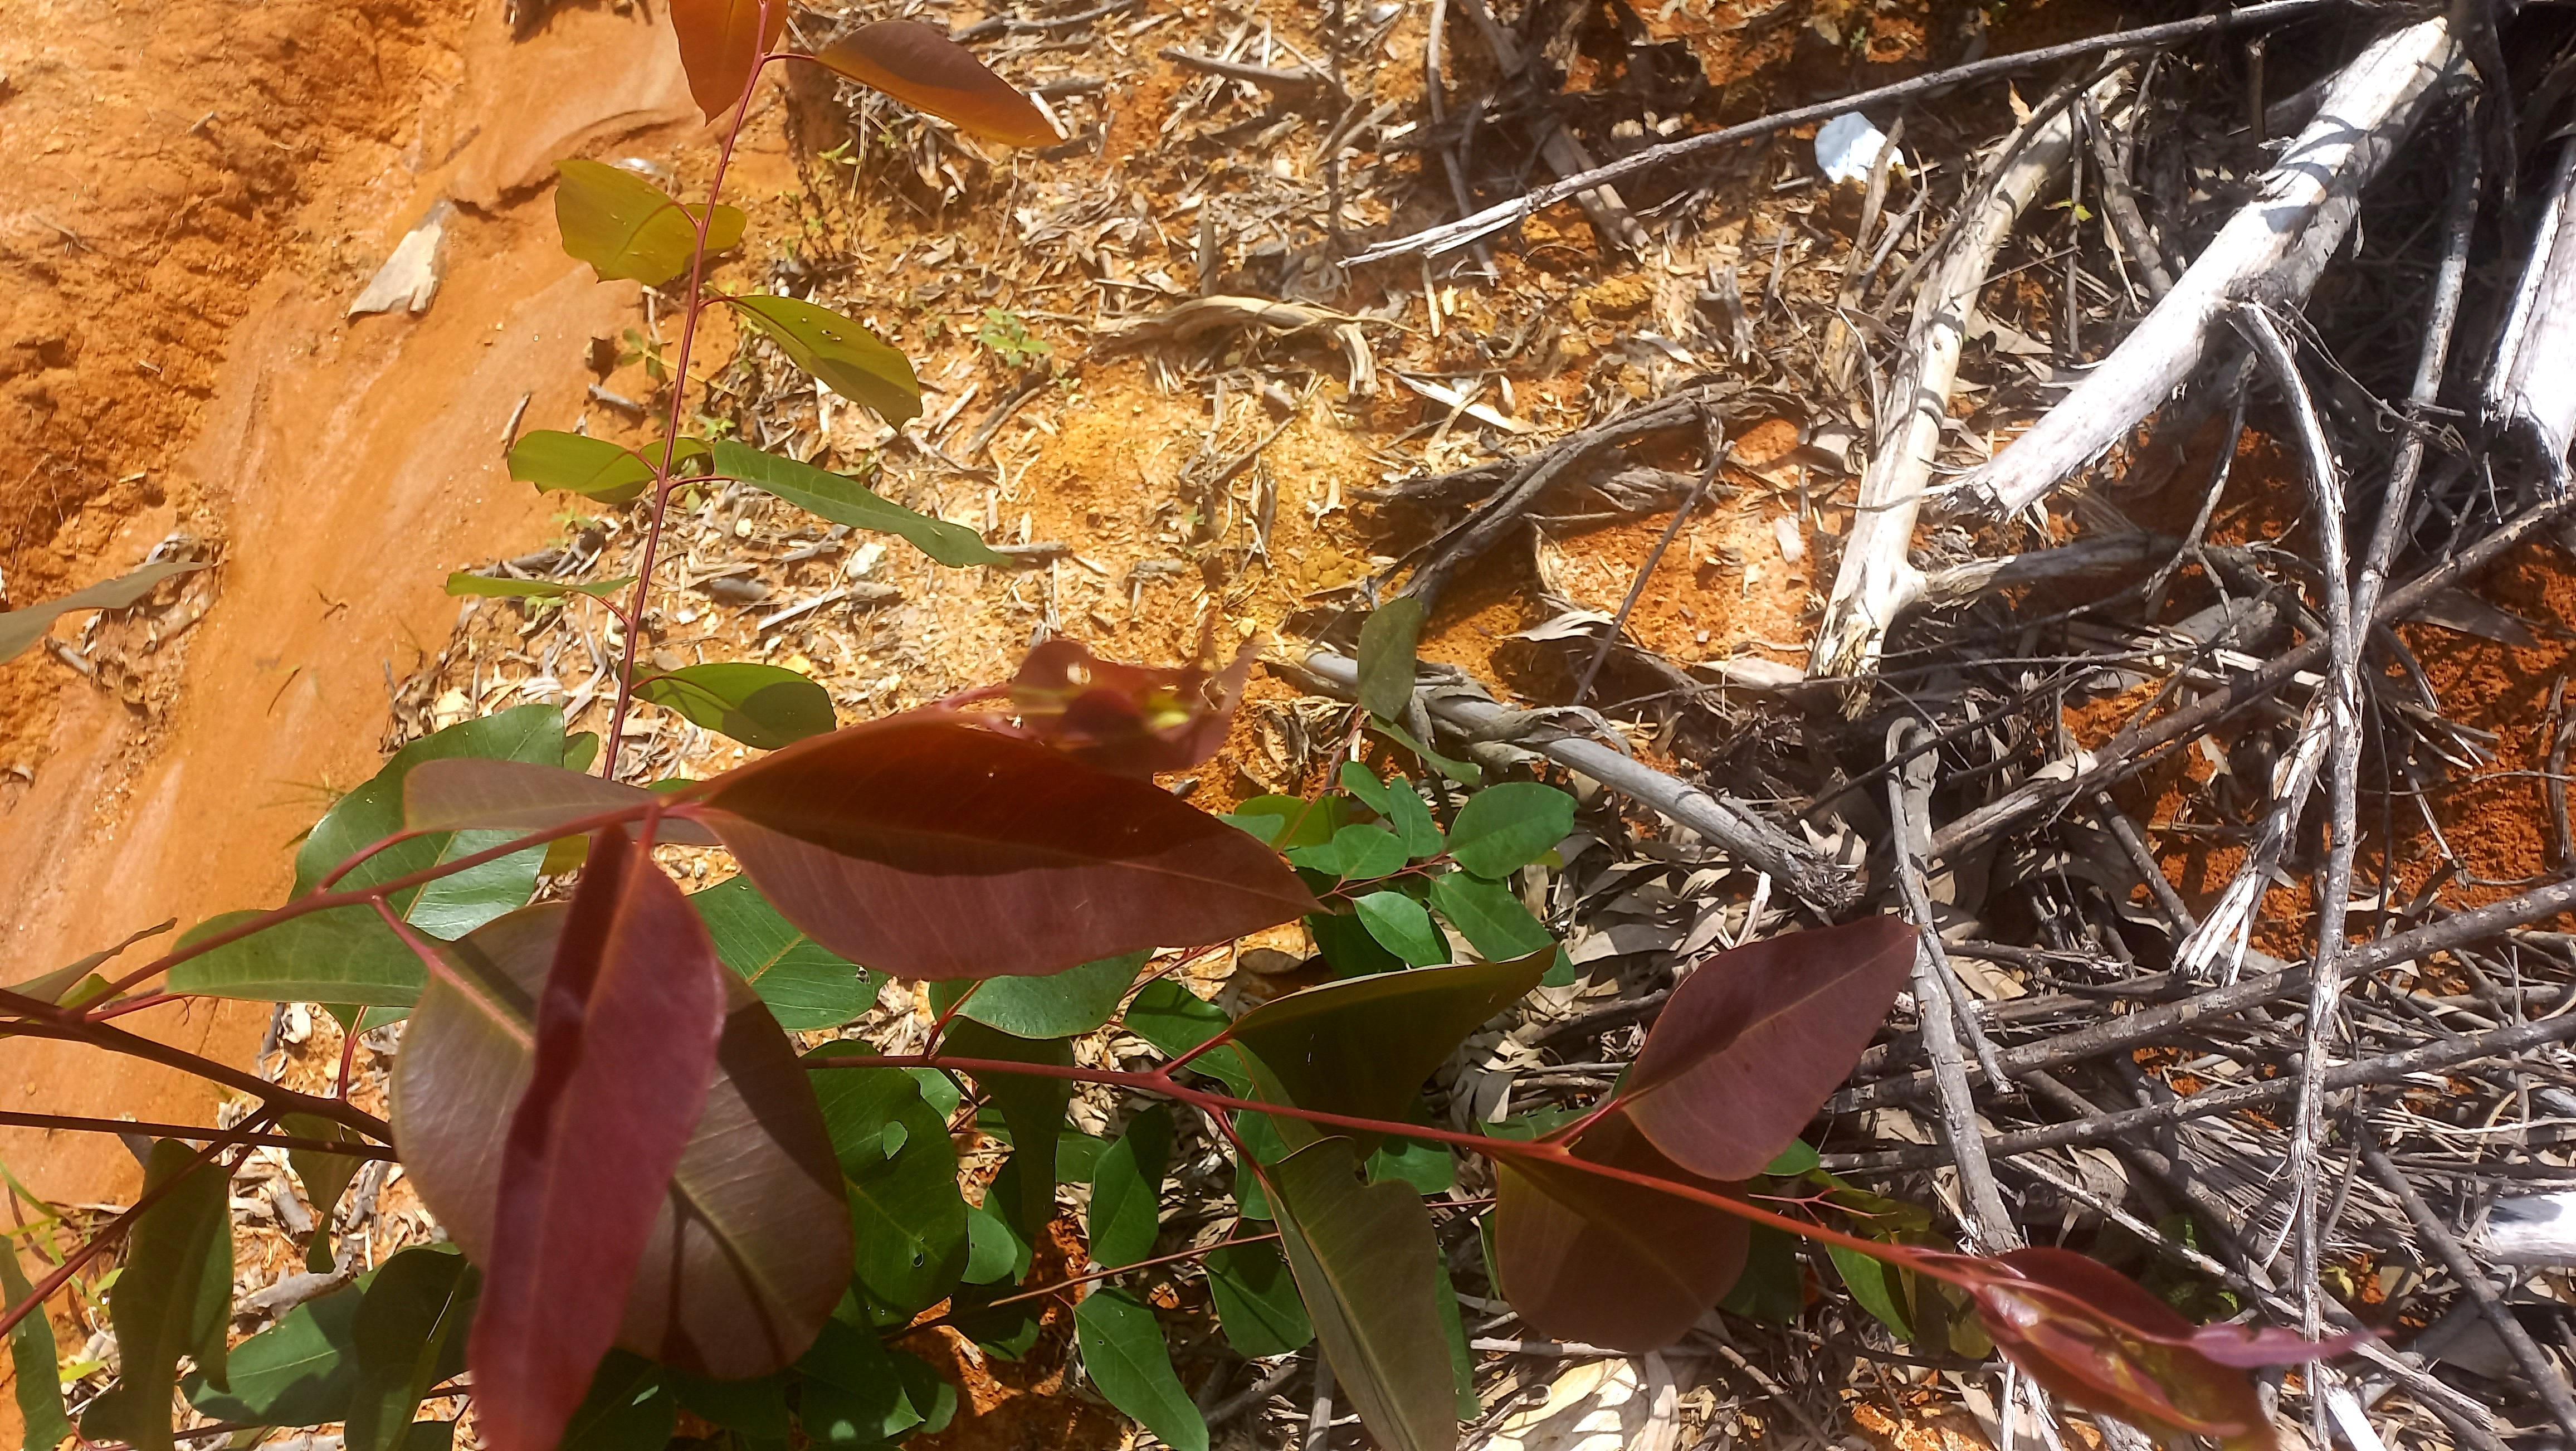Leaf Roller - Leaf: (1950, 1235, 2289, 1451), (998, 609, 1247, 777)
